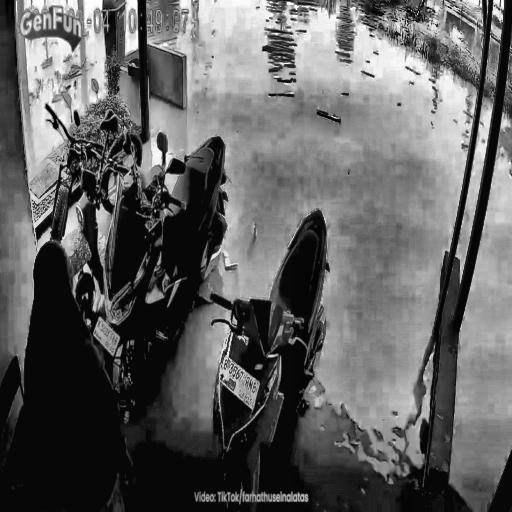banjir: (152, 0, 475, 511), (452, 135, 512, 509), (130, 307, 225, 488)
